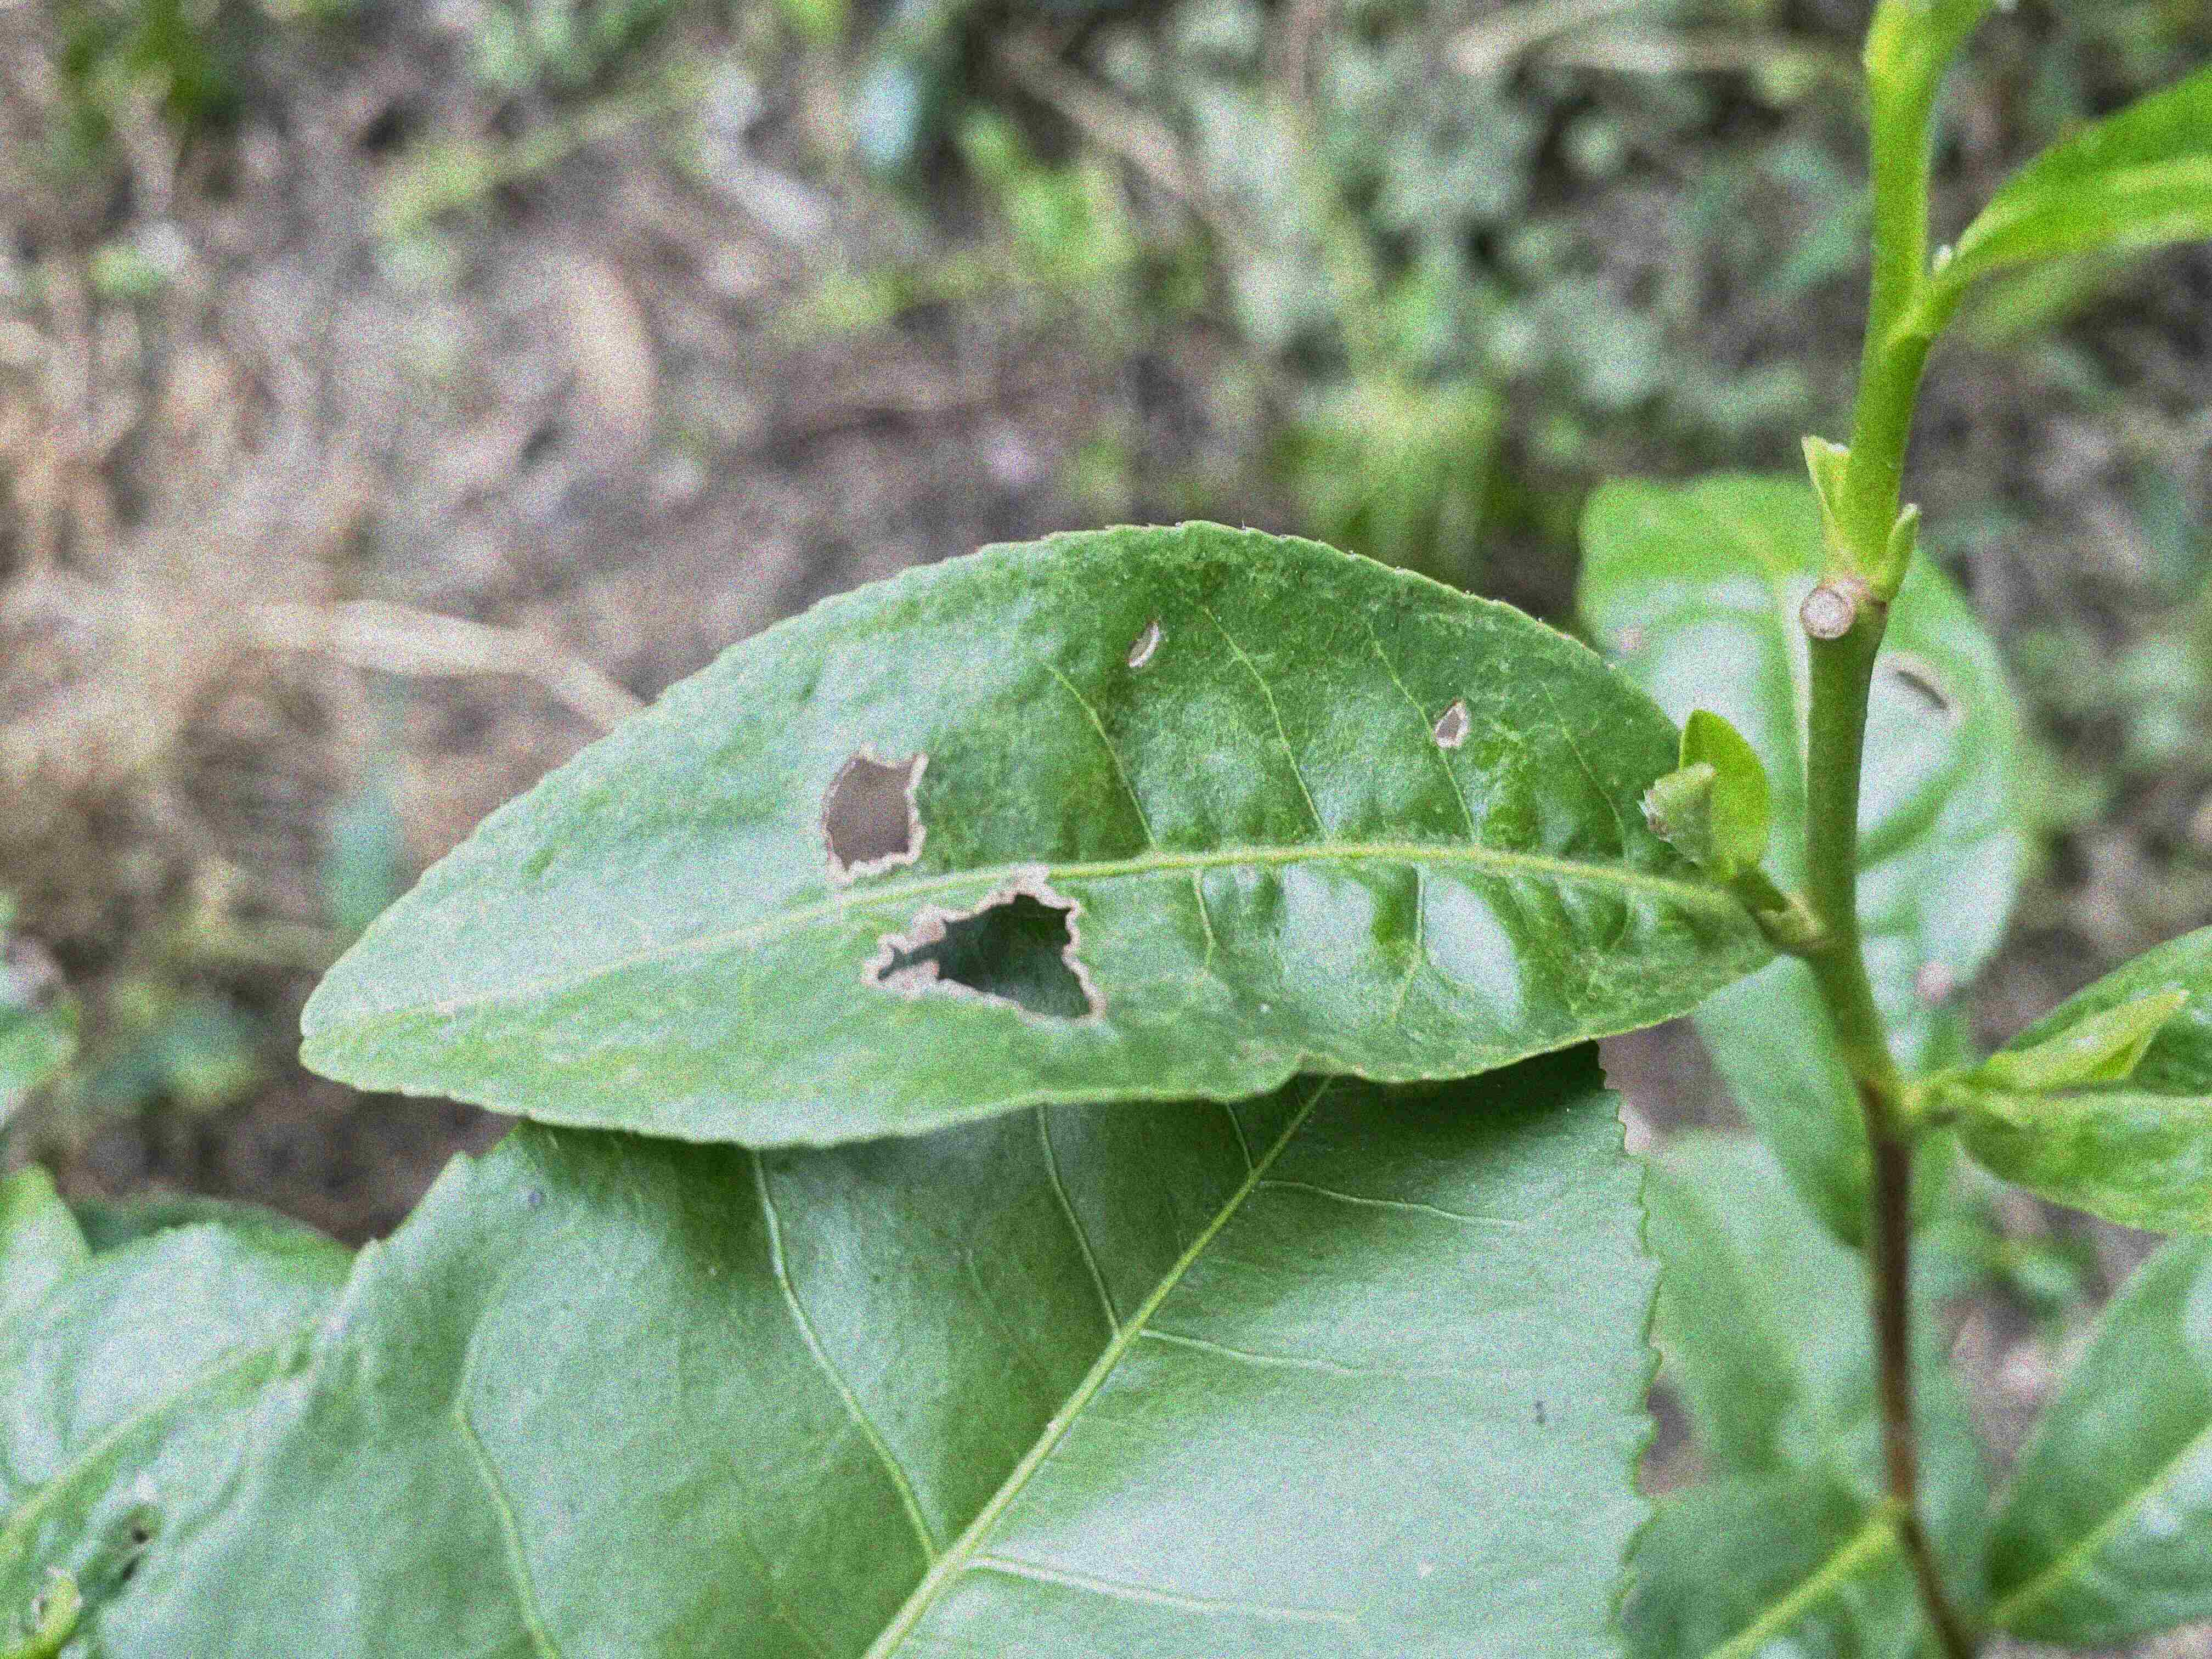chihuo_high: (289, 521, 1773, 1157)
